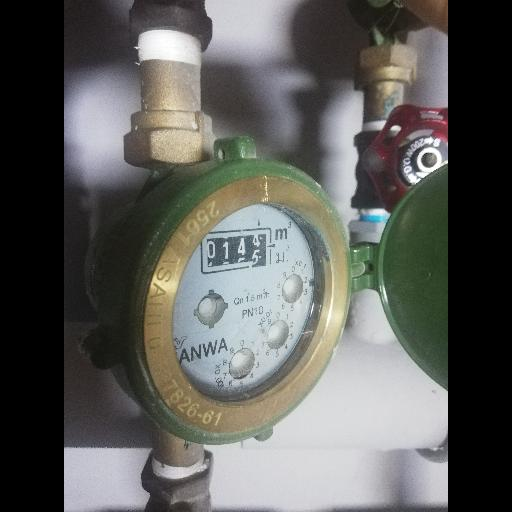0: (204, 238, 220, 268)
1: (219, 237, 235, 266)
4: (251, 235, 268, 268), (233, 235, 251, 263)
border_water_meter_number: (198, 227, 274, 275)
